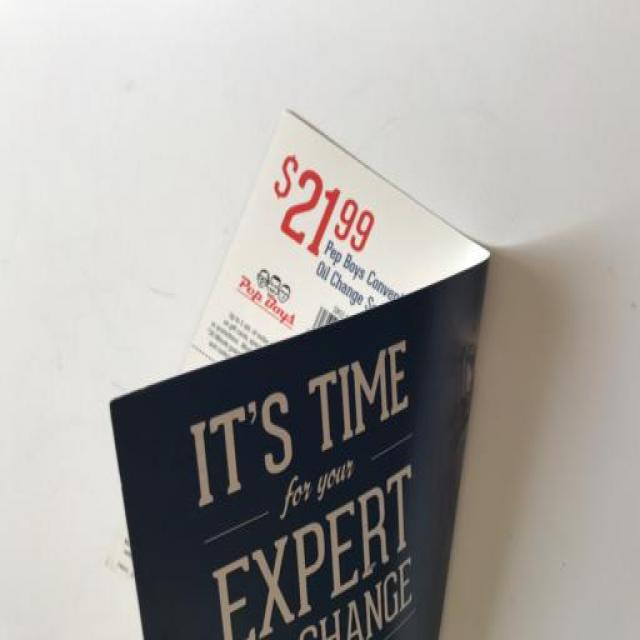paper: (99, 101, 537, 640)
